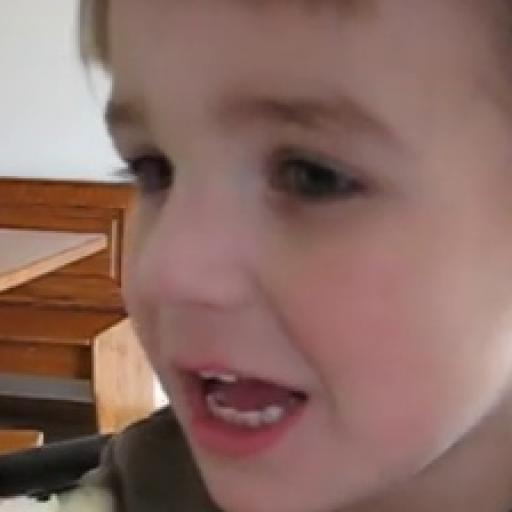Autism: (89, 14, 512, 459)
